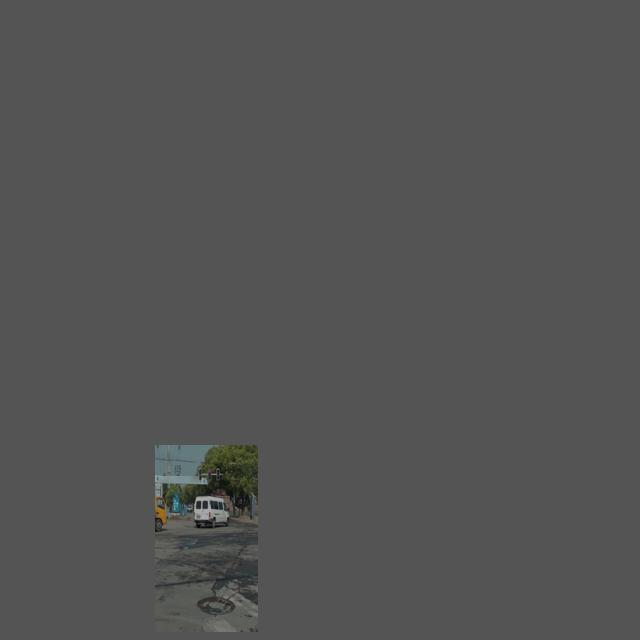broke: (196, 595, 235, 615)
